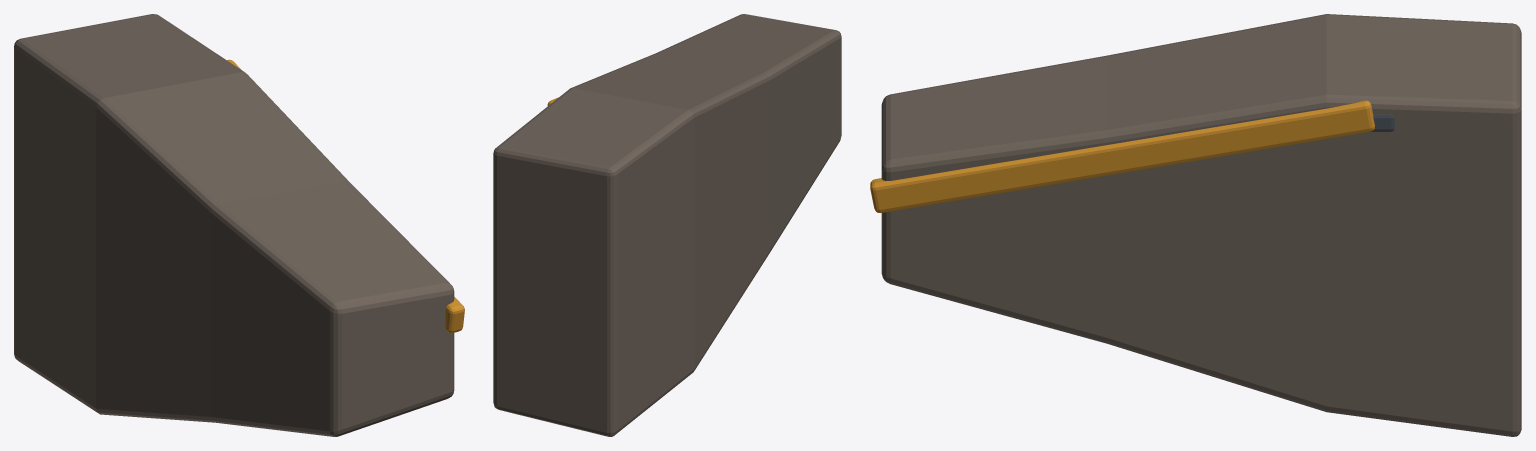
File: SM_MineRampCliffJoin_L.fbx
3 views of the same model, side by side, from view 1: azimuth 30°, elevation 25°; view 2: azimuth 150°, elevation 25°; view 3: azimuth 270°, elevation 25° (orthographic). The views are drawn at different scales.
Parts seen in each view (by area): view 1: SM_MineRampCliffJoin_L.001; view 2: SM_MineRampCliffJoin_L.001; view 3: SM_MineRampCliffJoin_L.001.
Boxes of the visible parts, x1=… form: SM_MineRampCliffJoin_L.001: x1=14, y1=14, x2=464, y2=436; SM_MineRampCliffJoin_L.001: x1=493, y1=14, x2=841, y2=436; SM_MineRampCliffJoin_L.001: x1=870, y1=14, x2=1521, y2=436.
Bounding box in the file's own units: 534 × 158 × 317.
